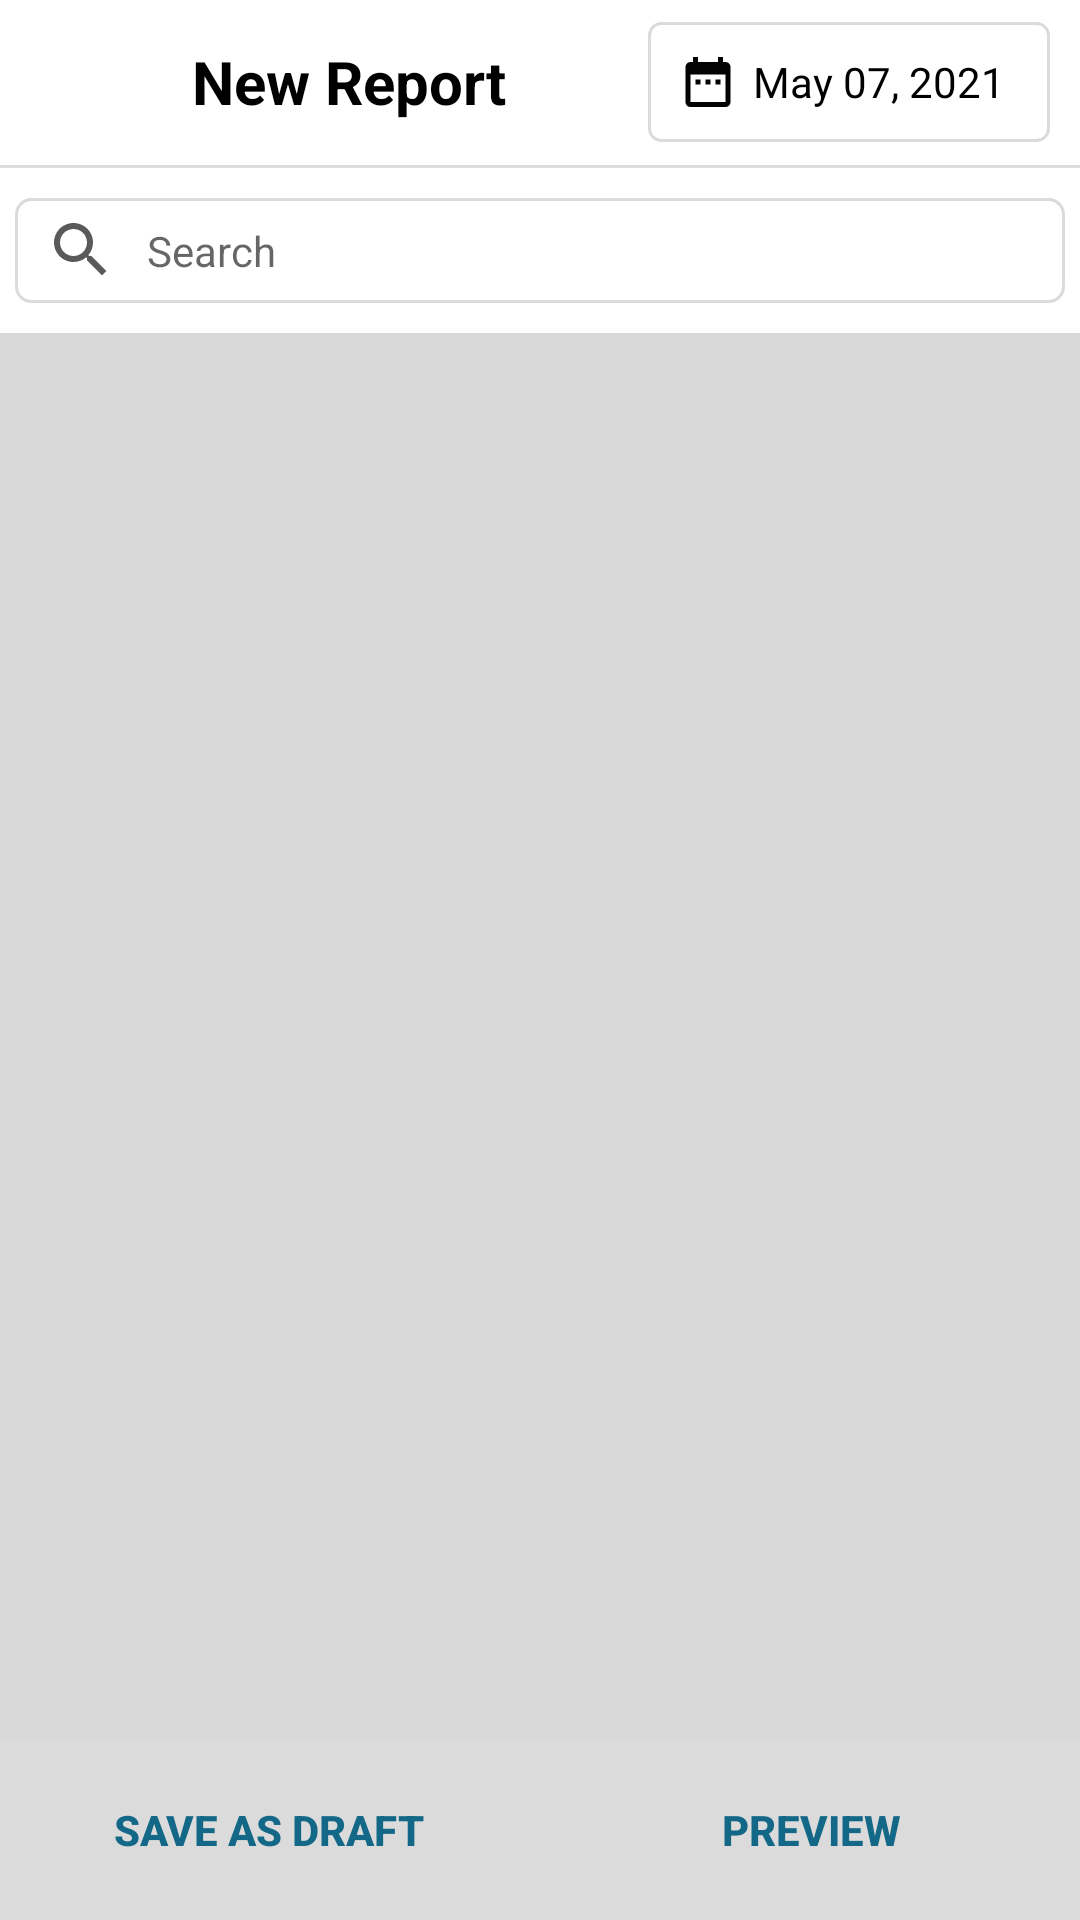

Where to tap for icons on this 1080px×1920px app screen, as (x=x, y=y):
calendar: (x=708, y=82)
